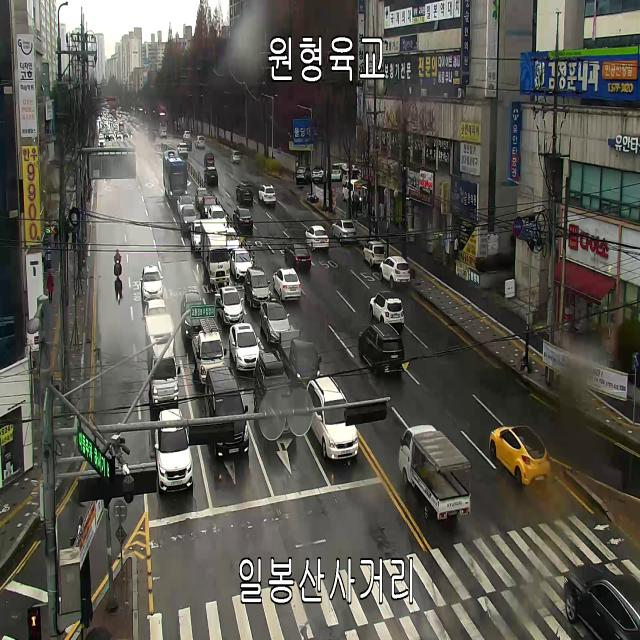Bus: (164, 151, 188, 199)
Car: (563, 563, 640, 639), (306, 376, 358, 459), (205, 366, 249, 458), (489, 425, 551, 486), (154, 408, 193, 492), (253, 348, 291, 432), (280, 329, 322, 390), (358, 322, 404, 374), (228, 323, 260, 370), (260, 298, 291, 344), (369, 291, 405, 330), (245, 266, 271, 308), (217, 286, 244, 326), (180, 292, 203, 338), (380, 256, 410, 289), (273, 268, 301, 302), (140, 265, 164, 304), (284, 243, 312, 270), (230, 248, 253, 280), (362, 241, 386, 268), (305, 225, 329, 252), (331, 219, 356, 242), (342, 179, 362, 206), (225, 227, 241, 257), (233, 206, 253, 230), (180, 206, 198, 232), (208, 205, 227, 227), (144, 299, 166, 317), (236, 180, 253, 203), (177, 194, 194, 215), (258, 185, 276, 204), (342, 169, 362, 186), (200, 196, 216, 217), (190, 220, 200, 252), (296, 167, 312, 184), (332, 162, 344, 182), (196, 188, 208, 208), (204, 167, 218, 184), (313, 167, 328, 181), (204, 152, 214, 167), (177, 143, 188, 156), (231, 150, 241, 163), (195, 136, 205, 148), (183, 138, 192, 151), (98, 136, 105, 147), (160, 129, 167, 139), (348, 164, 360, 169), (183, 131, 190, 139)
Truck: (399, 425, 471, 520), (145, 314, 181, 406), (191, 318, 227, 384), (200, 219, 230, 286)
